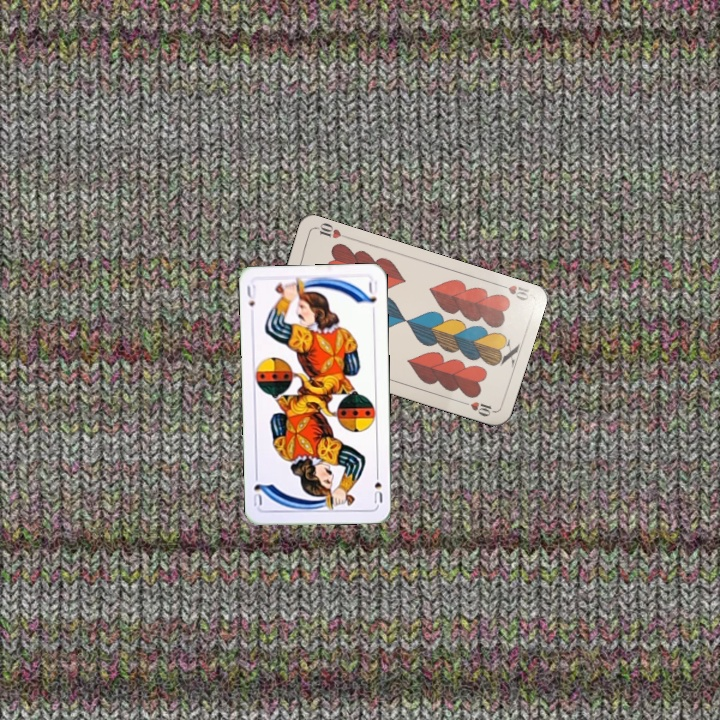H10: (493, 279, 532, 303)
SU: (370, 466, 385, 506), (243, 281, 259, 309)
